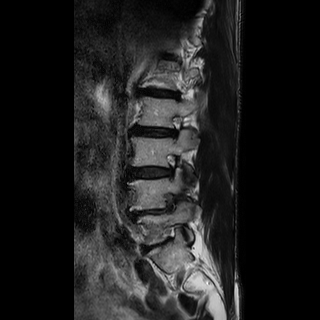RFS2: (158, 147, 185, 182), (164, 112, 188, 143)
